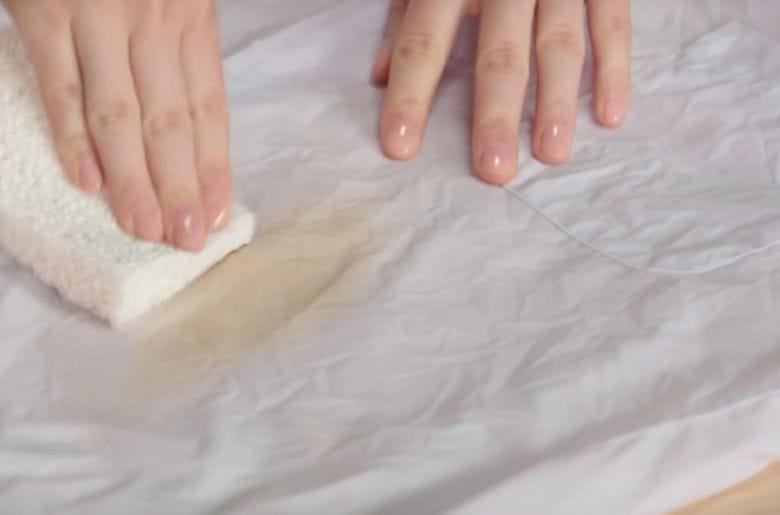gun: (132, 223, 388, 384)
